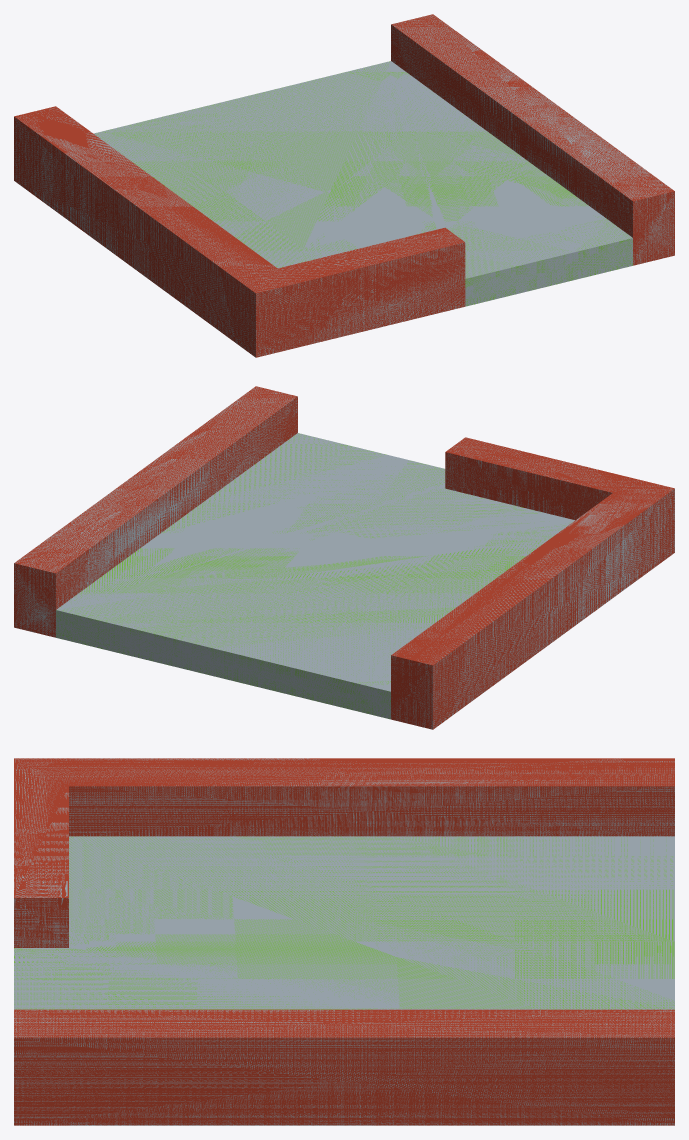
The model's file is Wall_left_01.obj.
3 renders of one model, top to bottom at view 1: azimuth 30°, elevation 25°; view 2: azimuth 150°, elevation 25°; view 3: azimuth 270°, elevation 25°, orthographic. The views are drawn at different scales.
Visible parts, largest first — view 1: Mesh1 Wall_left Model; view 2: Mesh1 Wall_left Model; view 3: Mesh1 Wall_left Model.
Boxes of the visible parts, left/top/right/bottom form: Mesh1 Wall_left Model: left=14, top=14, right=674, bottom=357; Mesh1 Wall_left Model: left=14, top=386, right=674, bottom=729; Mesh1 Wall_left Model: left=14, top=758, right=674, bottom=1125.
Size of the model in its own units: 3 by 0.44 by 3.
